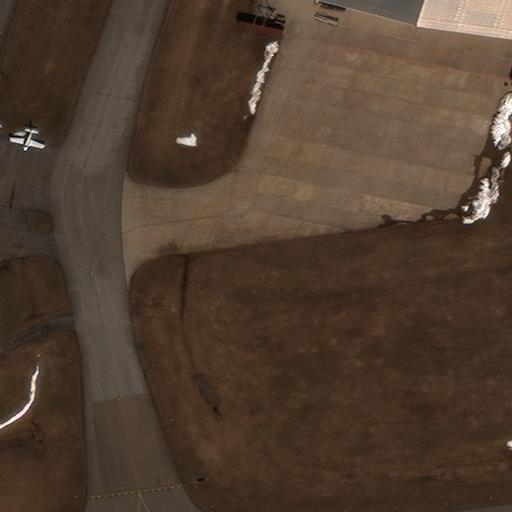Small Civil Transport: (9, 125, 43, 151)
